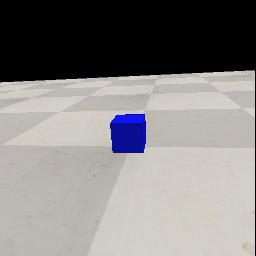box: (110, 114, 146, 153)
